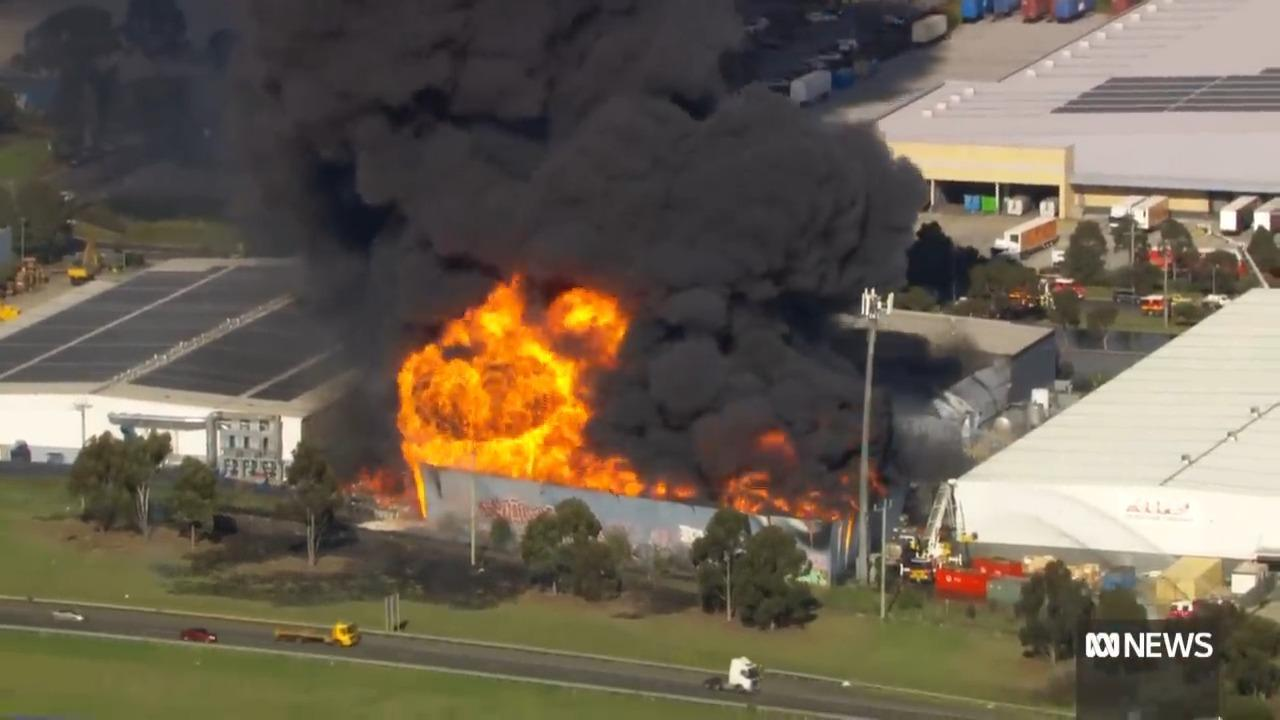fire: (361, 280, 688, 511), (722, 424, 831, 518)
